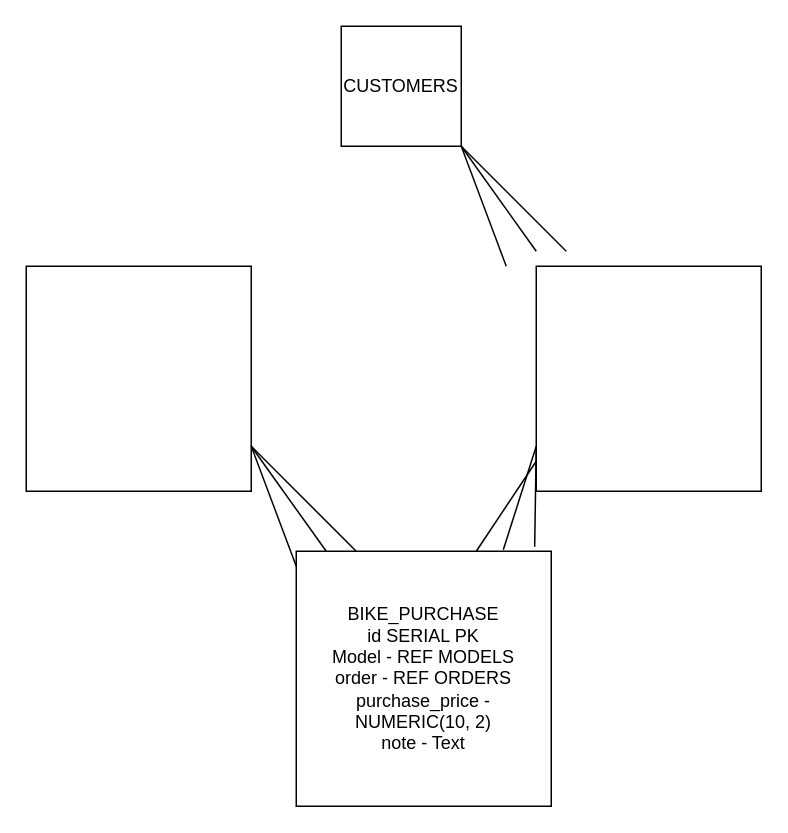
This 788x833 diagram has some shape labels left out. The shapes that lost their labels are listed below. From the top down, each one's centre as x and y in pixels, then its label:
At point 138,378: "BIKES code VARCHAR(6) PRIMARY KEY price NUMERIC(10, 2)".
At point 648,378: "ORDERS id SERIAL PK customer_id -REF customers".
